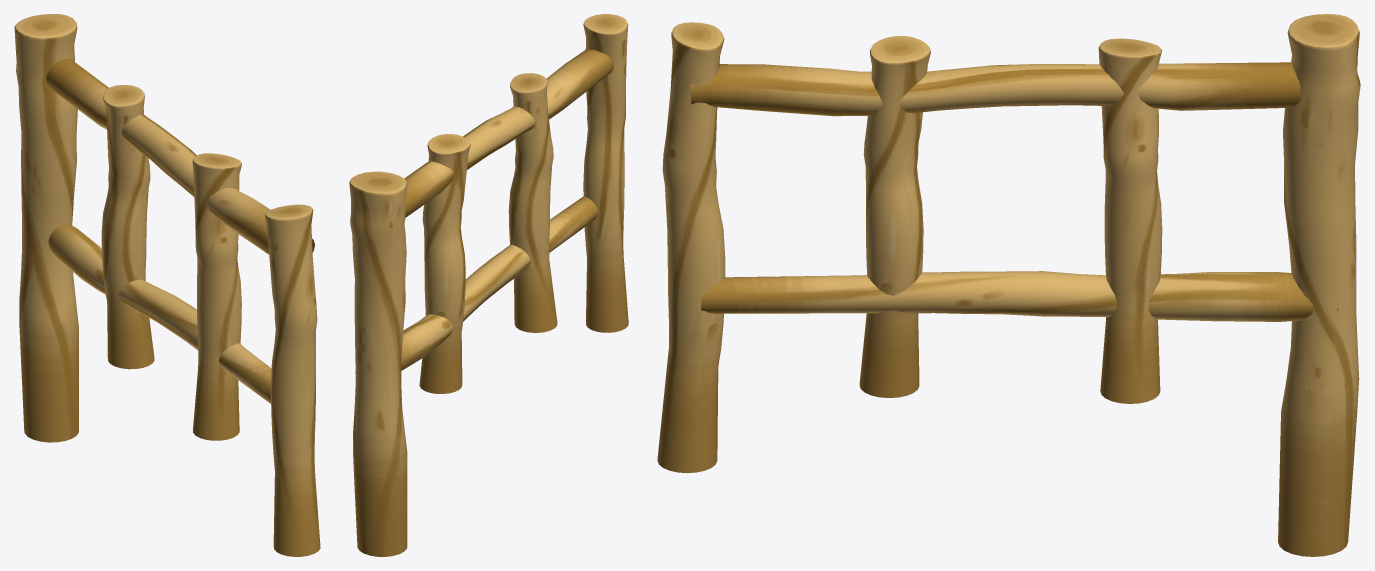
The model's file is Portal.fbx.
The picture shows the model from 3 angles, left to right: view 1: azimuth 30°, elevation 25°; view 2: azimuth 150°, elevation 25°; view 3: azimuth 270°, elevation 25°; orthographic projection. The views are drawn at different scales.
Visible parts, largest first — view 1: polySurface15; view 2: polySurface15; view 3: polySurface15.
Part boxes in pixels (x1,y1,x2,y2): polySurface15: (14,14,320,556); polySurface15: (349,14,628,556); polySurface15: (657,14,1360,556).
Size of the model in its own units: 0.1884 by 1.29 by 1.6.
